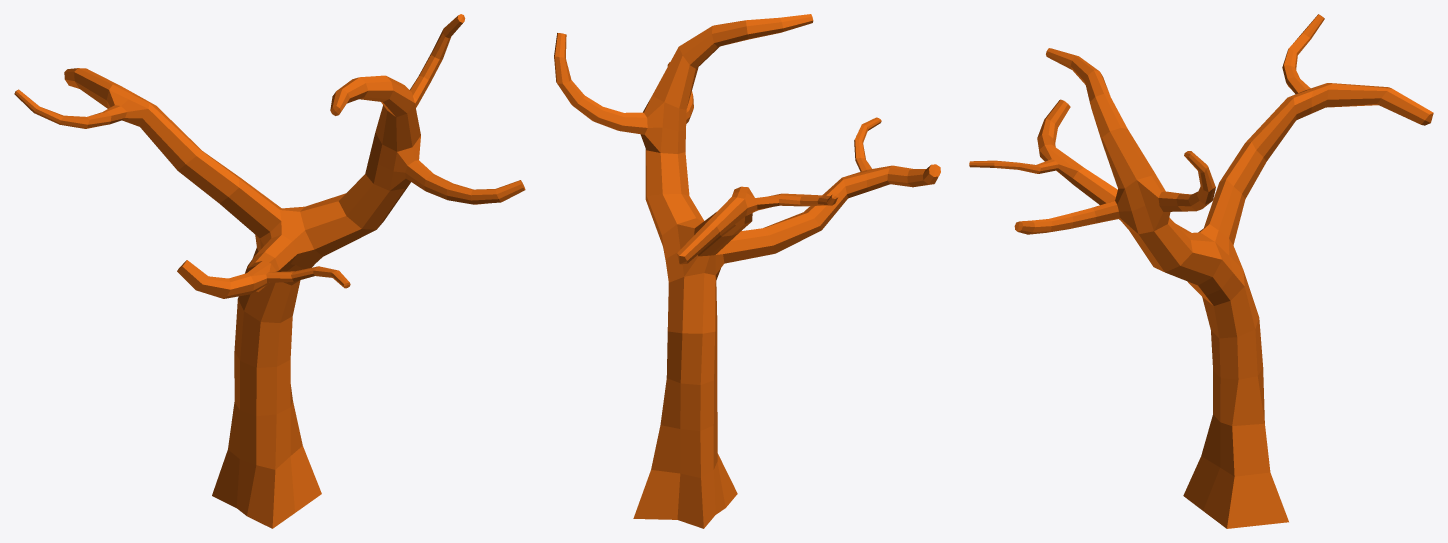
The model's file is TreeBare.fbx.
The picture shows the model from 3 angles, left to right: view 1: azimuth 30°, elevation 25°; view 2: azimuth 150°, elevation 25°; view 3: azimuth 270°, elevation 25°; orthographic projection. The views are drawn at different scales.
Parts seen in each view (by area): view 1: Cube; view 2: Cube; view 3: Cube.
Boxes of the visible parts, box(x1,y1,x2,y2) form: Cube: box(14, 14, 525, 528); Cube: box(554, 14, 940, 528); Cube: box(969, 14, 1433, 528).
Size of the model in its own units: 407 by 463 by 490.
